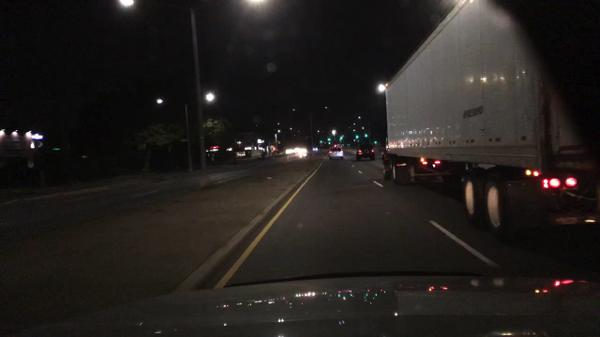car: (0, 155, 52, 189), (205, 145, 245, 164), (354, 147, 375, 161), (327, 147, 345, 160), (312, 147, 320, 153), (319, 142, 324, 147)
traffic light: (337, 136, 343, 141), (354, 135, 359, 140), (364, 133, 368, 138), (327, 138, 331, 143), (278, 141, 280, 146)
truck: (380, 0, 599, 245)
